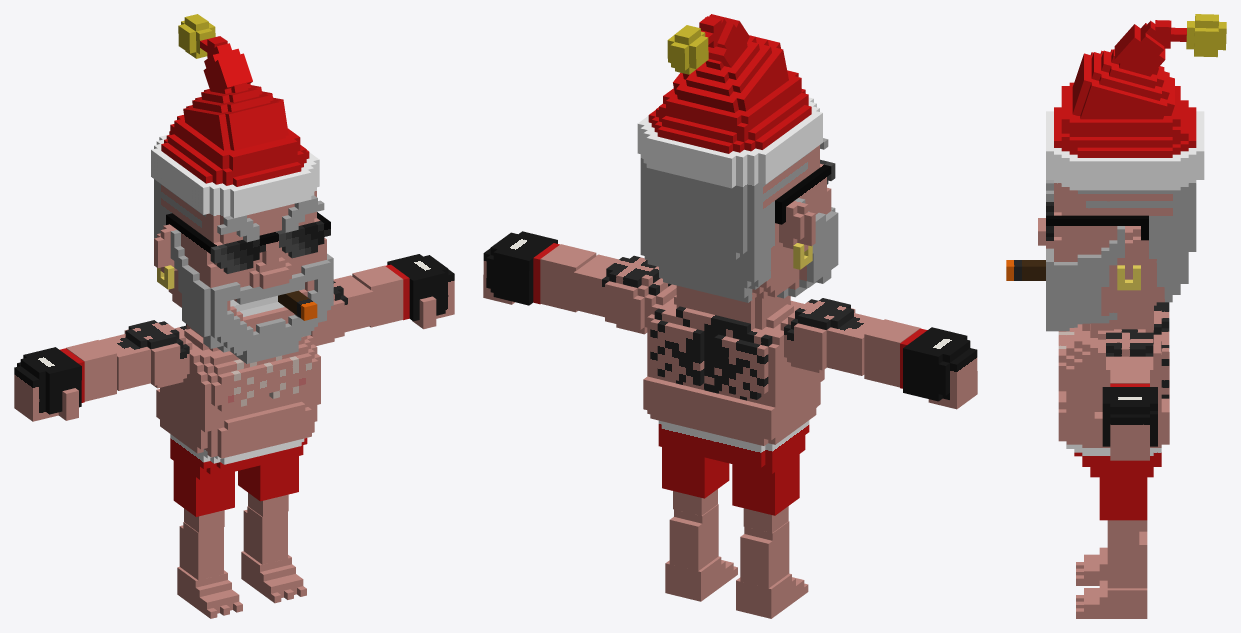
File: santa.glb
3 renders of one model, left to right at view 1: azimuth 30°, elevation 25°; view 2: azimuth 150°, elevation 25°; view 3: azimuth 270°, elevation 25°, orthographic. The views are drawn at different scales.
Visible parts, largest first — view 1: HEAD-Local, TOSO-Local, HIPS-Local, HAIR-Local, HAND$$2-Local, ARM$$3-Local, HAND$$2 (1)-Local, LEG$$1-Local, HIPS$$2-Local, leg$$2-Local, ARM$$1-Local, LEG$$3 (1)-Local (+7 smaller); view 2: HEAD-Local, TOSO-Local, HIPS-Local, ARM$$1-Local, ARM$$3-Local, HAIR-Local, HAND$$2-Local, HAND$$2 (1)-Local, HIPS$$2-Local, LEG$$1-Local, leg$$2-Local, LEG$$3-Local (+8 smaller); view 3: HEAD-Local, HAIR-Local, TOSO-Local, HAND$$2 (1)-Local, leg$$2-Local, ARM$$1-Local, shoes$$2 (1)-Local, LEG$$3 (1)-Local, hair$$3-Local, HIPS-Local, HIPS$$2-Local, haor$$2-Local (+3 smaller).
Part boxes in pixels (x1,y1,x2,y2): HEAD-Local: (151, 115, 333, 363); TOSO-Local: (160, 324, 320, 432); HIPS-Local: (156, 389, 317, 458); HAIR-Local: (183, 82, 288, 150); HAND$$2-Local: (14, 347, 84, 421); ARM$$3-Local: (99, 320, 192, 390); HAND$$2 (1)-Local: (385, 254, 454, 329); LEG$$1-Local: (173, 461, 234, 532); HIPS$$2-Local: (170, 434, 307, 479); leg$$2-Local: (238, 456, 298, 517); ARM$$1-Local: (310, 275, 373, 345); LEG$$3 (1)-Local: (243, 506, 287, 564); HEAD-Local: (637, 70, 838, 302); TOSO-Local: (647, 295, 824, 407); HIPS-Local: (643, 375, 820, 445); ARM$$1-Local: (573, 254, 676, 334); ARM$$3-Local: (780, 298, 883, 375); HAIR-Local: (673, 35, 788, 112); HAND$$2-Local: (900, 327, 977, 409); HAND$$2 (1)-Local: (483, 231, 559, 305); HIPS$$2-Local: (658, 420, 809, 473); LEG$$1-Local: (732, 454, 799, 532); leg$$2-Local: (662, 447, 729, 515); LEG$$3-Local: (740, 521, 789, 588); HEAD-Local: (1006, 82, 1204, 331); HAIR-Local: (1072, 49, 1174, 119); TOSO-Local: (1058, 302, 1169, 419); HAND$$2 (1)-Local: (1094, 383, 1157, 460); leg$$2-Local: (1099, 477, 1147, 538); ARM$$1-Local: (1098, 329, 1161, 388); shoes$$2 (1)-Local: (1076, 580, 1147, 618); LEG$$3 (1)-Local: (1107, 531, 1147, 588); hair$$3-Local: (1155, 14, 1226, 57); HIPS-Local: (1058, 352, 1169, 447); HIPS$$2-Local: (1066, 441, 1161, 477); haor$$2-Local: (1114, 20, 1168, 76).
Size of the model in its own units: 65.95 by 80.31 by 27.82.
Materials: 20 (20 with a texture image).
